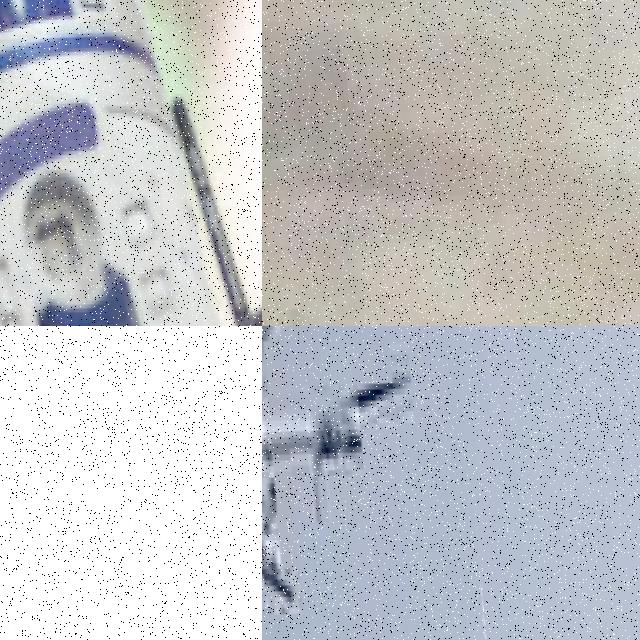drone: (0, 0, 262, 326), (262, 326, 492, 640)
